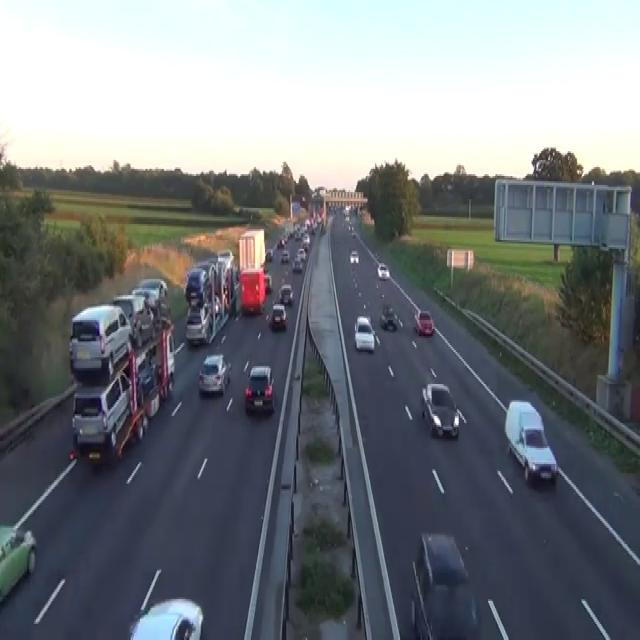Car: (410, 532, 480, 638), (71, 368, 131, 453), (504, 400, 557, 484), (68, 304, 131, 373), (128, 596, 204, 638), (0, 523, 36, 606), (112, 293, 154, 347), (421, 382, 459, 438), (132, 286, 170, 327), (244, 364, 275, 414), (197, 352, 231, 395), (136, 361, 160, 418), (185, 304, 210, 345), (184, 266, 208, 306), (354, 315, 375, 352), (132, 286, 158, 313), (139, 277, 168, 299), (266, 302, 287, 329), (414, 309, 434, 336), (203, 293, 221, 320), (380, 304, 395, 331), (278, 283, 294, 304), (217, 249, 234, 268), (377, 261, 389, 279), (264, 274, 272, 292), (349, 249, 359, 263), (292, 258, 302, 272), (296, 247, 305, 260), (281, 249, 289, 263), (265, 247, 273, 261), (302, 235, 310, 249), (277, 236, 284, 249), (320, 222, 326, 233), (233, 204, 240, 213), (300, 196, 306, 204), (350, 226, 355, 234), (351, 230, 356, 237)
Truck: (71, 316, 175, 464), (184, 249, 236, 345), (237, 227, 266, 313)
